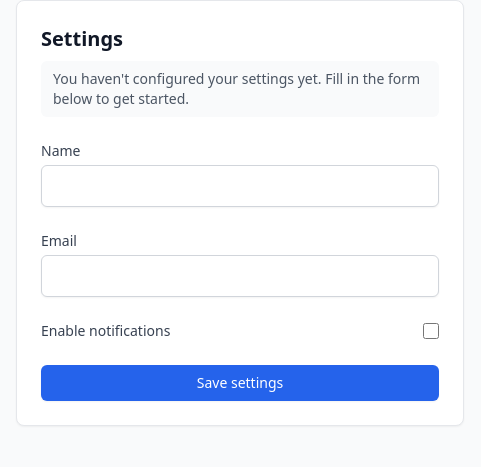
Scenario: SettingsForm › shows validation errors on blur
This screenshot has width=481, height=467.
Click the field labelled "Name" at x=240, y=186, box [41,165,439,207]
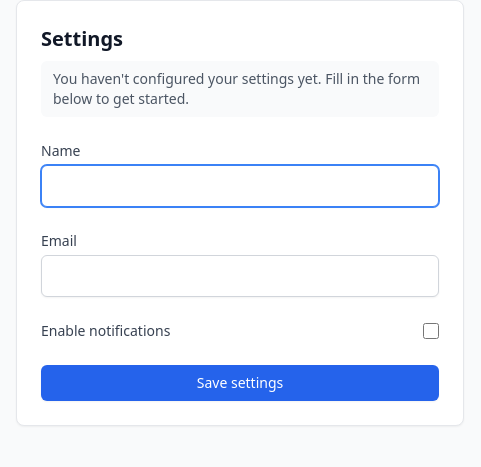
Press Tab
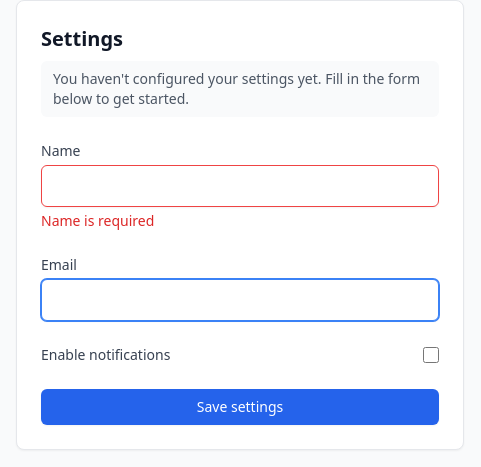
Now the message reads "Name is required", box [41,211,154,230]
